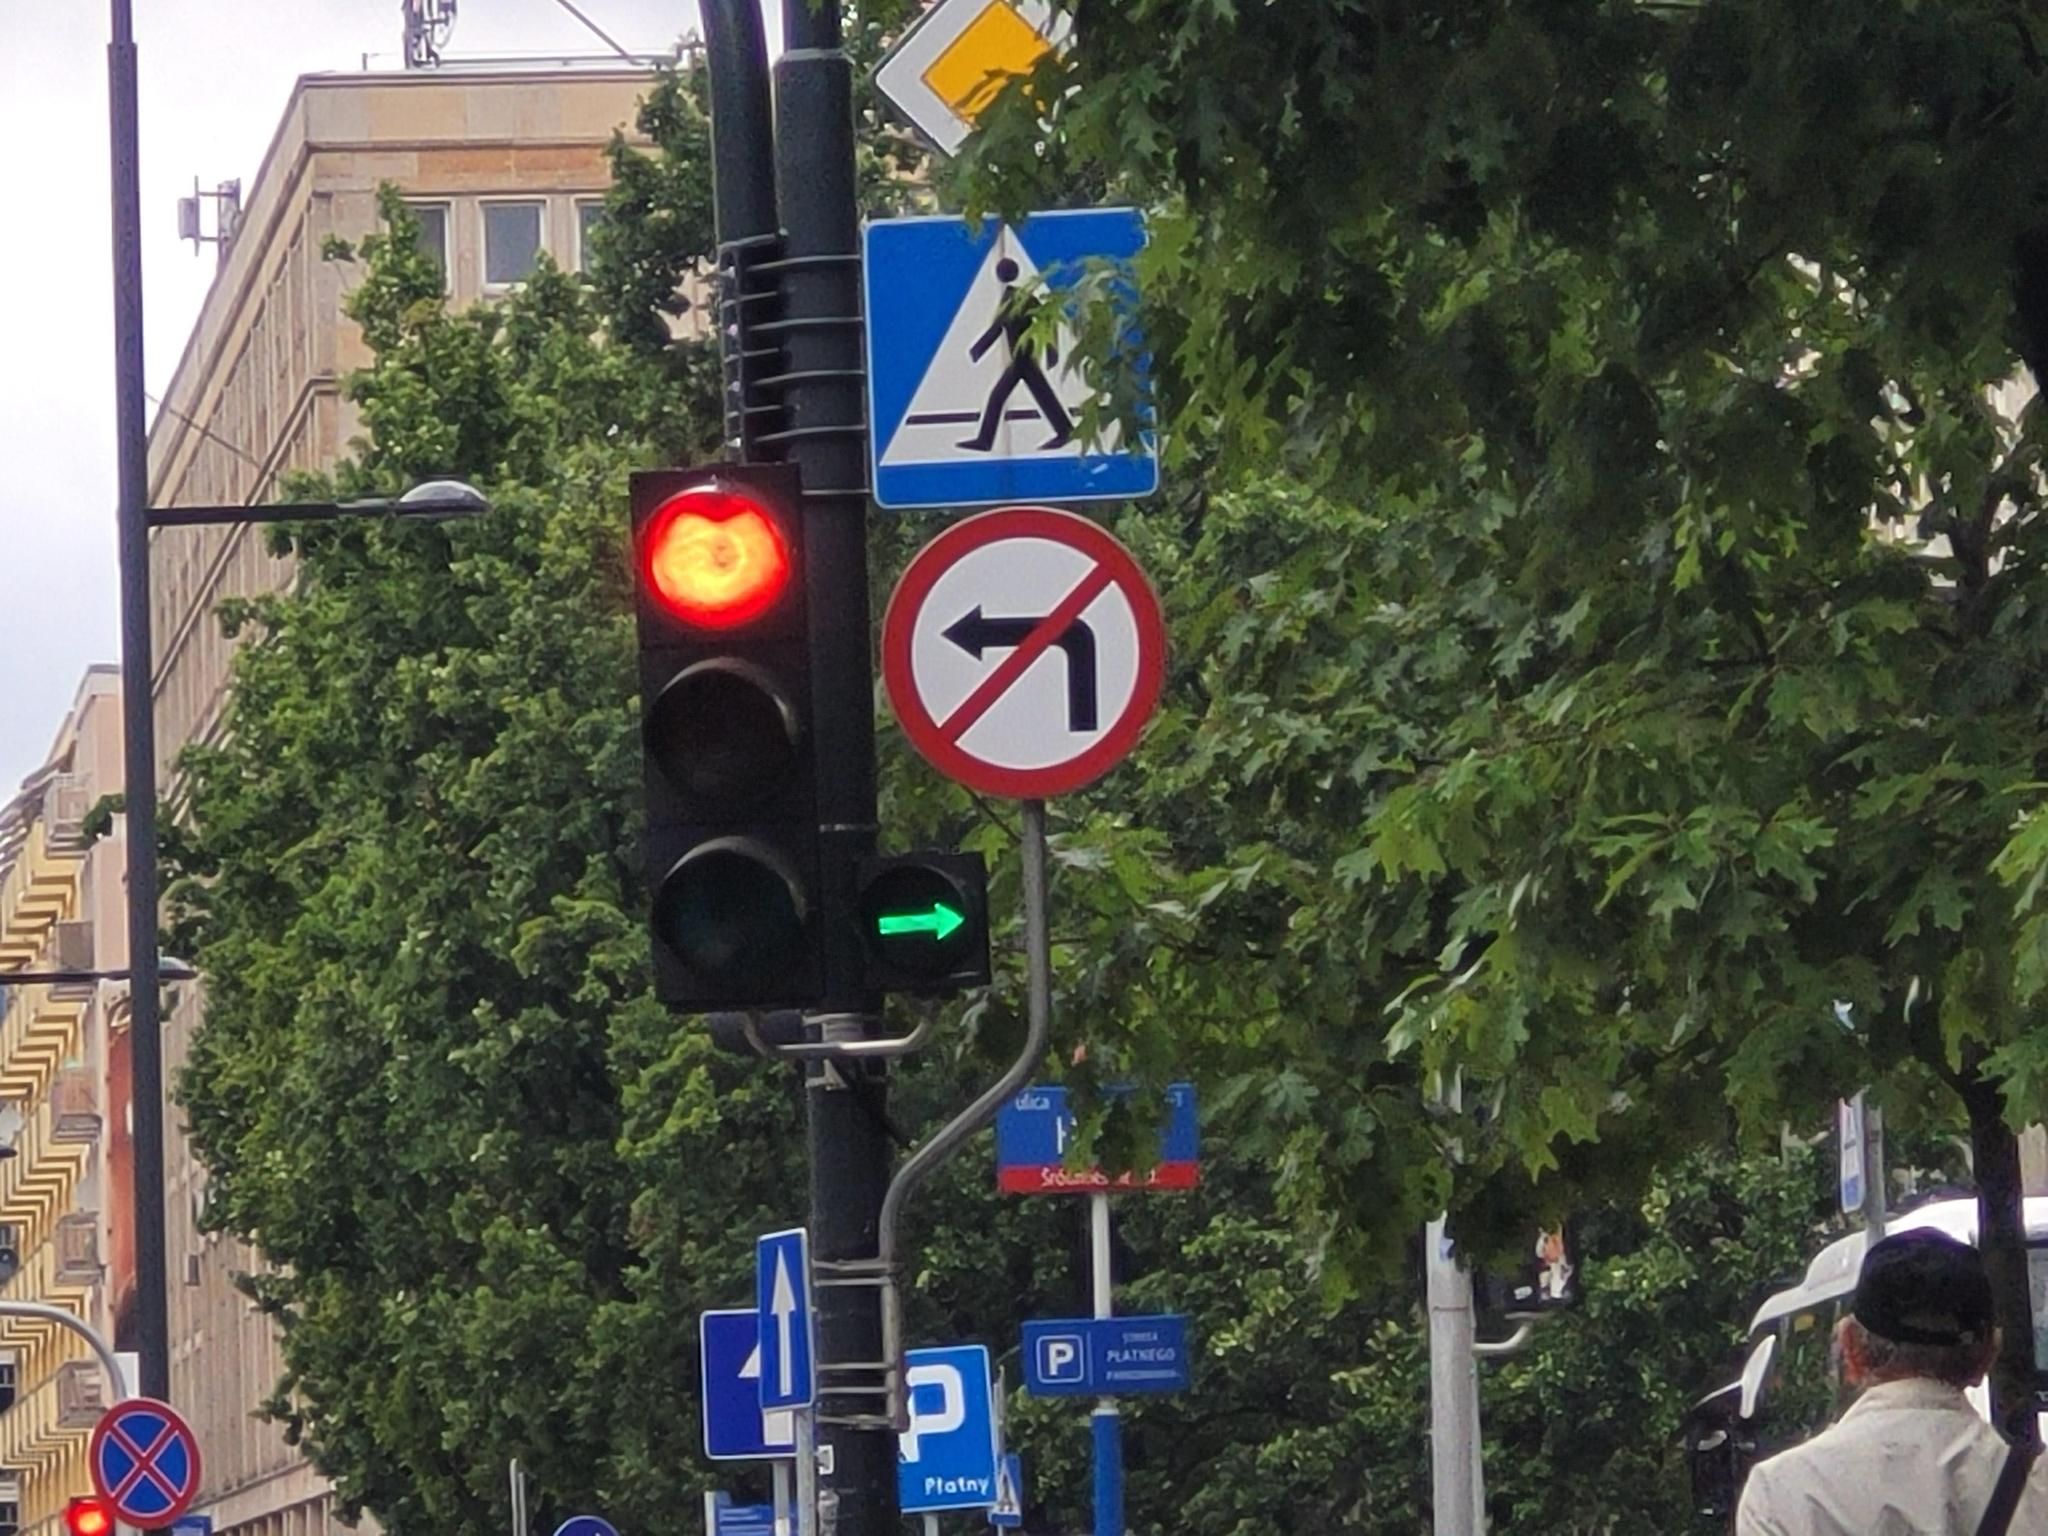information: (866, 213, 1147, 494), (872, 0, 1085, 192), (701, 1310, 797, 1460), (901, 1347, 985, 1510), (761, 1236, 810, 1404), (992, 1452, 1022, 1525)
prohibitory: (880, 505, 1166, 802), (89, 1397, 202, 1530)
